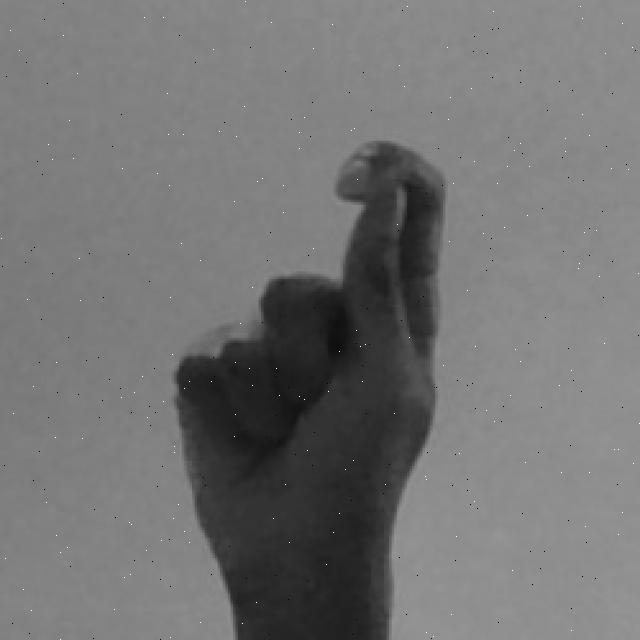T: (166, 135, 452, 640)
